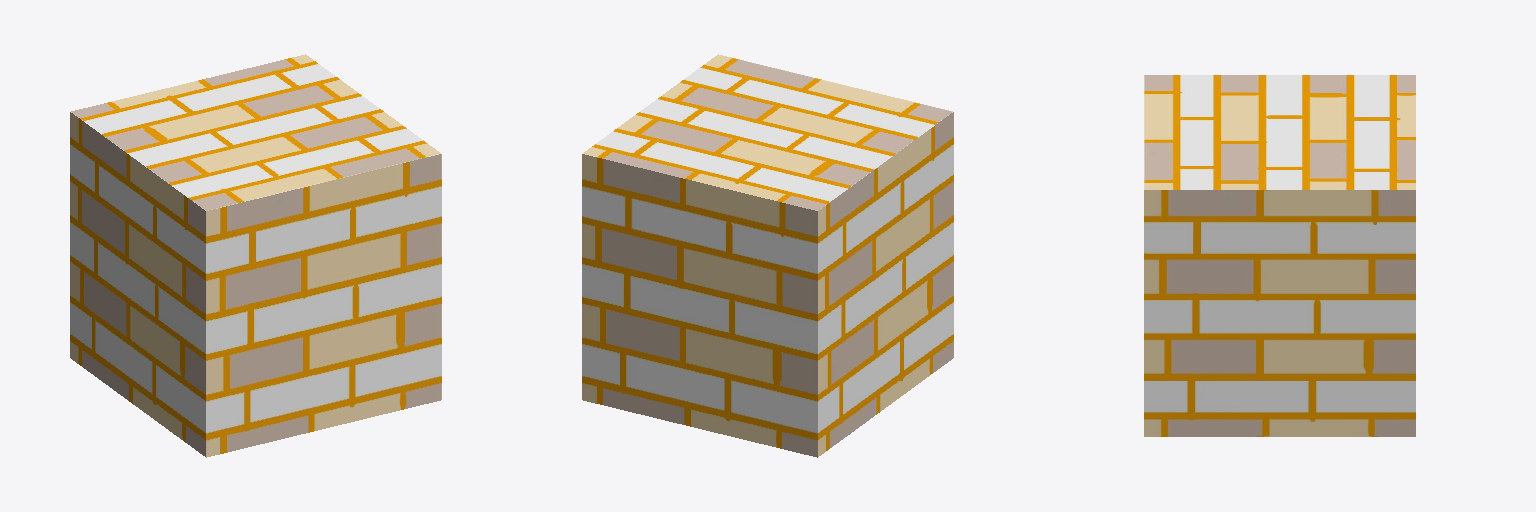
3 renders of one model, left to right at view 1: azimuth 30°, elevation 25°; view 2: azimuth 150°, elevation 25°; view 3: azimuth 270°, elevation 25°, orthographic.
Visible parts, largest first — view 1: 立方体; view 2: 立方体; view 3: 立方体.
Part boxes in pixels (bbox=[...]): 立方体: bbox=[70, 54, 441, 457]; 立方体: bbox=[582, 54, 953, 457]; 立方体: bbox=[1144, 75, 1415, 436].
Bounding box in the file's own units: 2 × 2 × 2.
Materials: 1 (1 with a texture image).